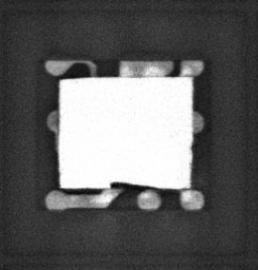DIE_BROKEN: (109, 179, 168, 191)
